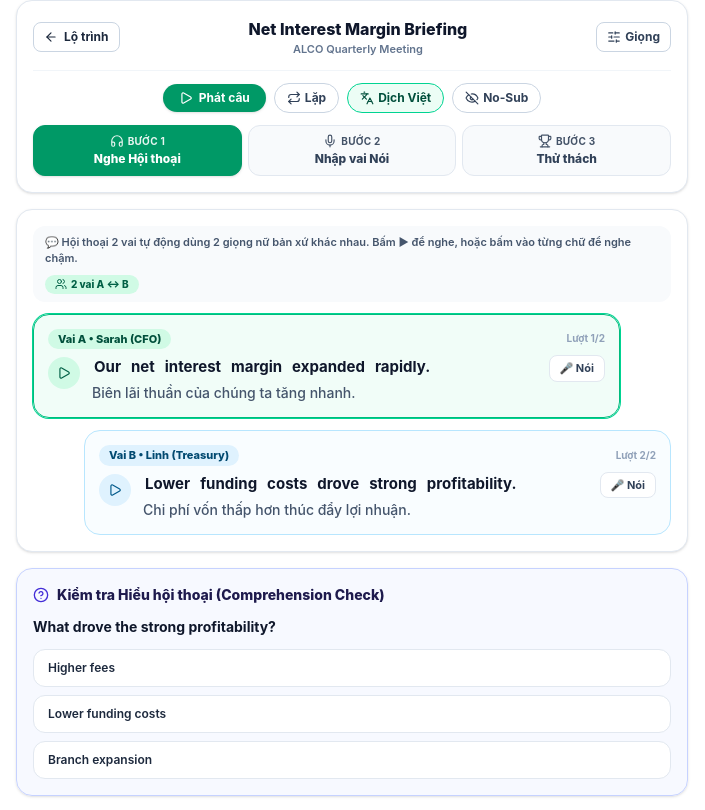
Scenario: LessonPlayer › validates Cloze (Điền từ) answer accurately inside Step 3
Click the button "Bước 3 Thử thách" at [567, 150], box x1=462 y1=124 x2=671 y2=176
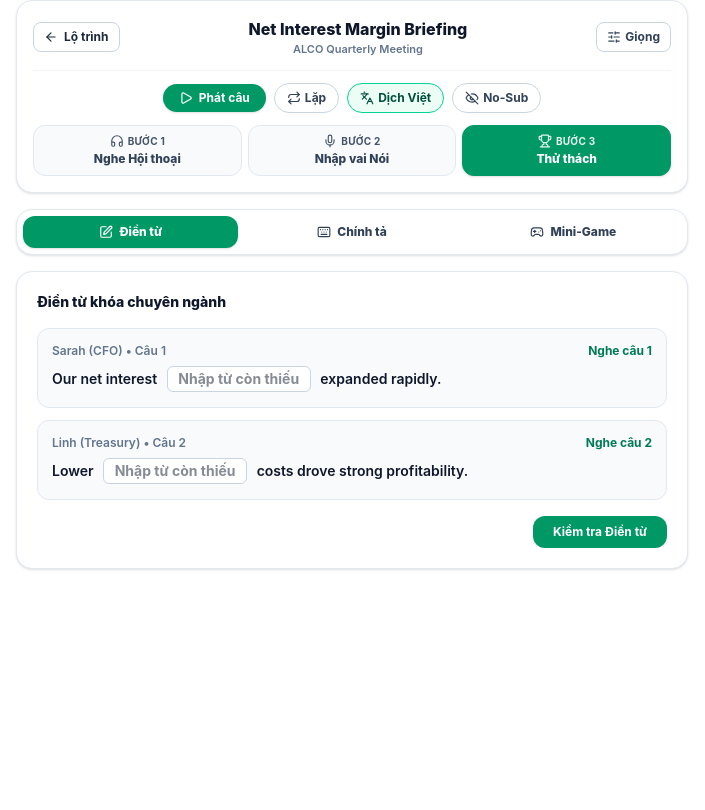
Type "margin" into the field with placeholder "Nhập từ còn thiếu" next to "Our net interest" at [239, 378], box x1=167 y1=366 x2=311 y2=392
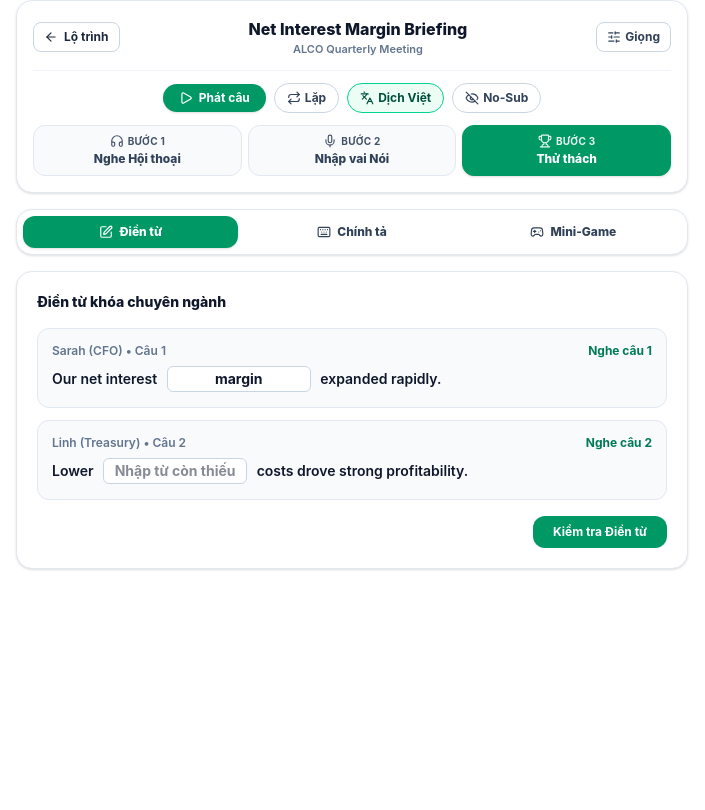
Type "funding" into the field with placeholder "Nhập từ còn thiếu" at [175, 470], box x1=103 y1=458 x2=247 y2=484
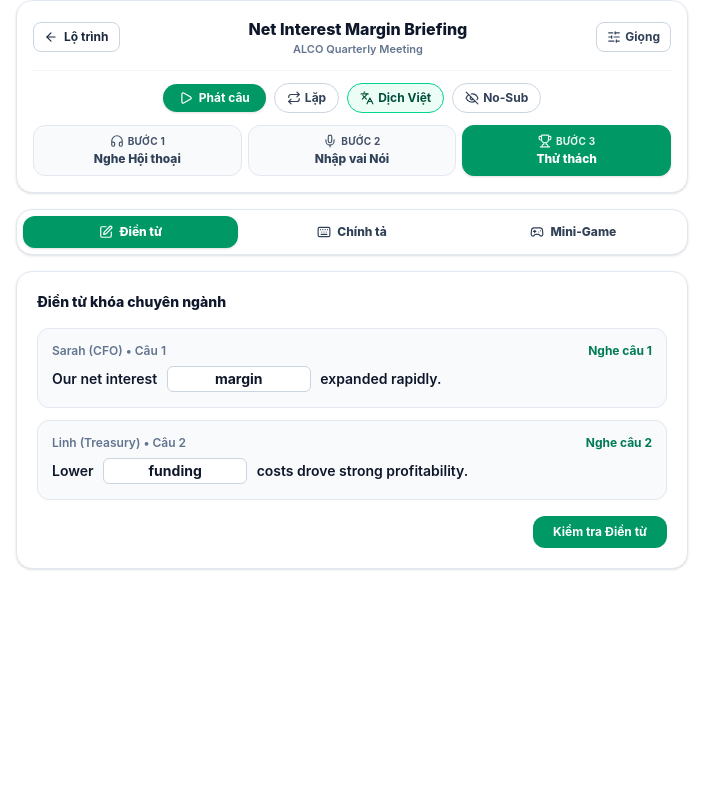
Click the button "Kiểm tra Điền từ" at [600, 532], box x1=533 y1=516 x2=667 y2=548
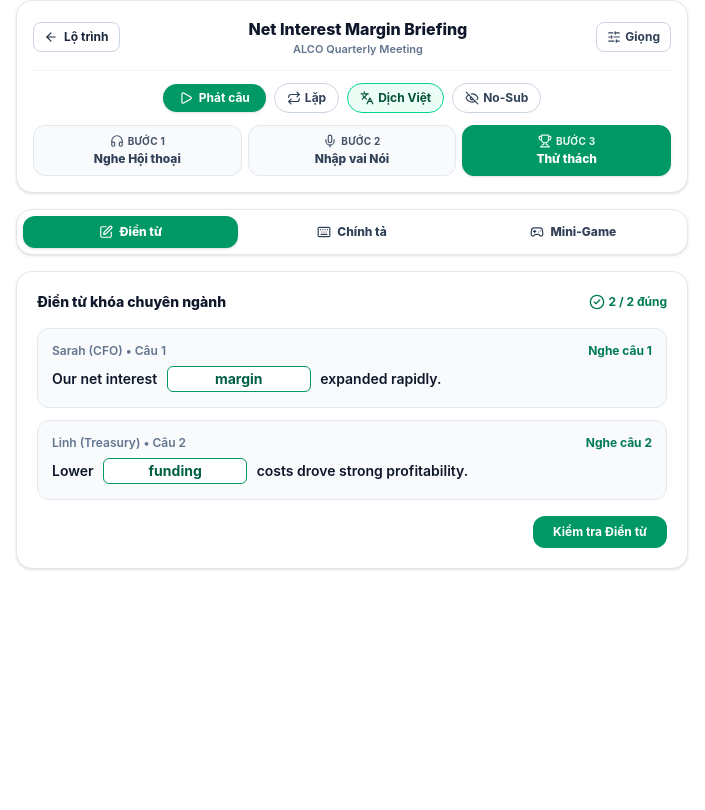
Result: the text "2 / 2 đúng" is shown at x1=589 y1=294 x2=667 y2=310
